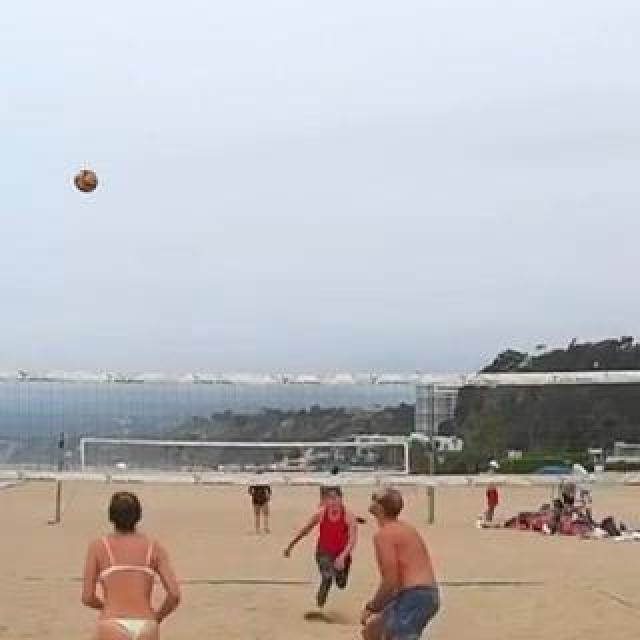volleyball: (73, 166, 99, 192)
